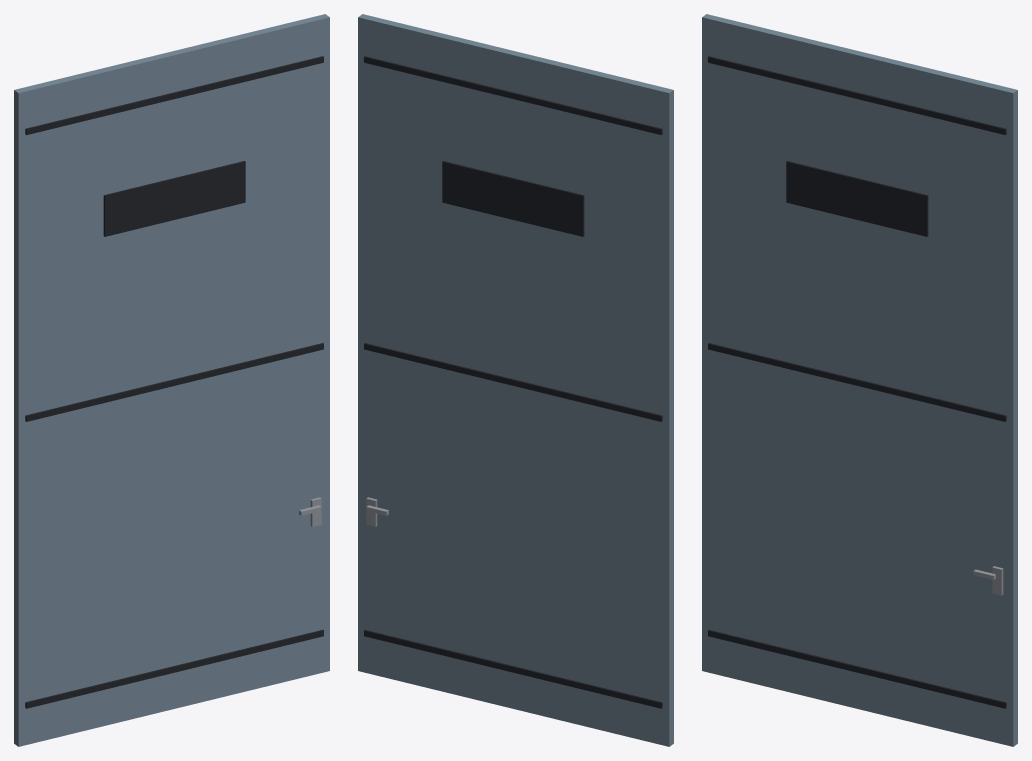
File: SM_Door_metal_200x400.fbx
3 views of the same model, side by side, from view 1: azimuth 30°, elevation 25°; view 2: azimuth 150°, elevation 25°; view 3: azimuth 330°, elevation 25° (orthographic).
Visible parts, largest first — view 1: SM_Door_metal_200x400; view 2: SM_Door_metal_200x400; view 3: SM_Door_metal_200x400.
Part boxes in pixels (x1,y1,x2,y2): SM_Door_metal_200x400: (14,14,329,746); SM_Door_metal_200x400: (358,14,673,746); SM_Door_metal_200x400: (702,14,1017,746).
Bounding box in the file's own units: 1.99 × 3.99 × 0.175.
